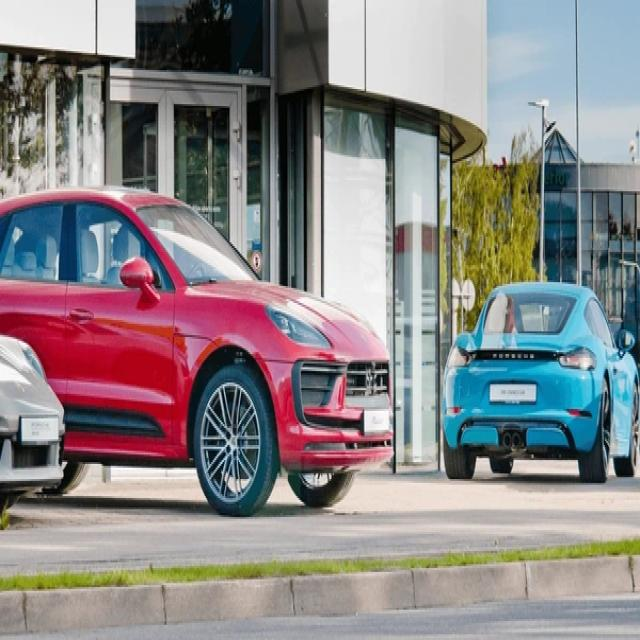porsche: (489, 349, 540, 365)
